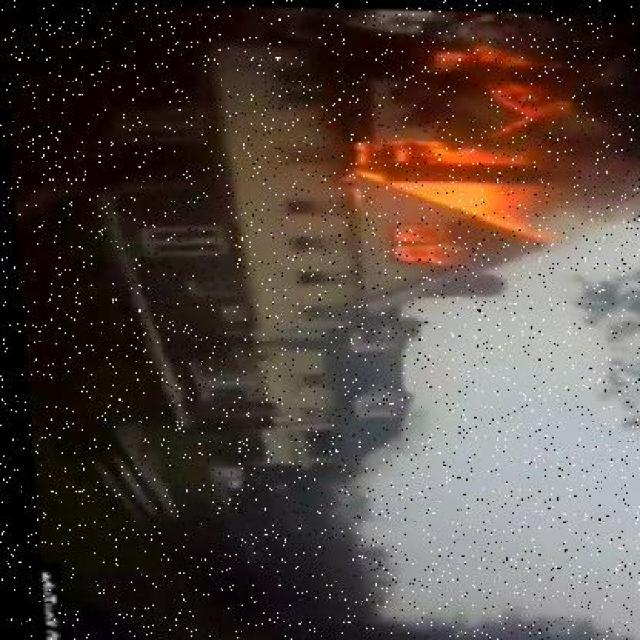fire: (349, 122, 605, 253)
